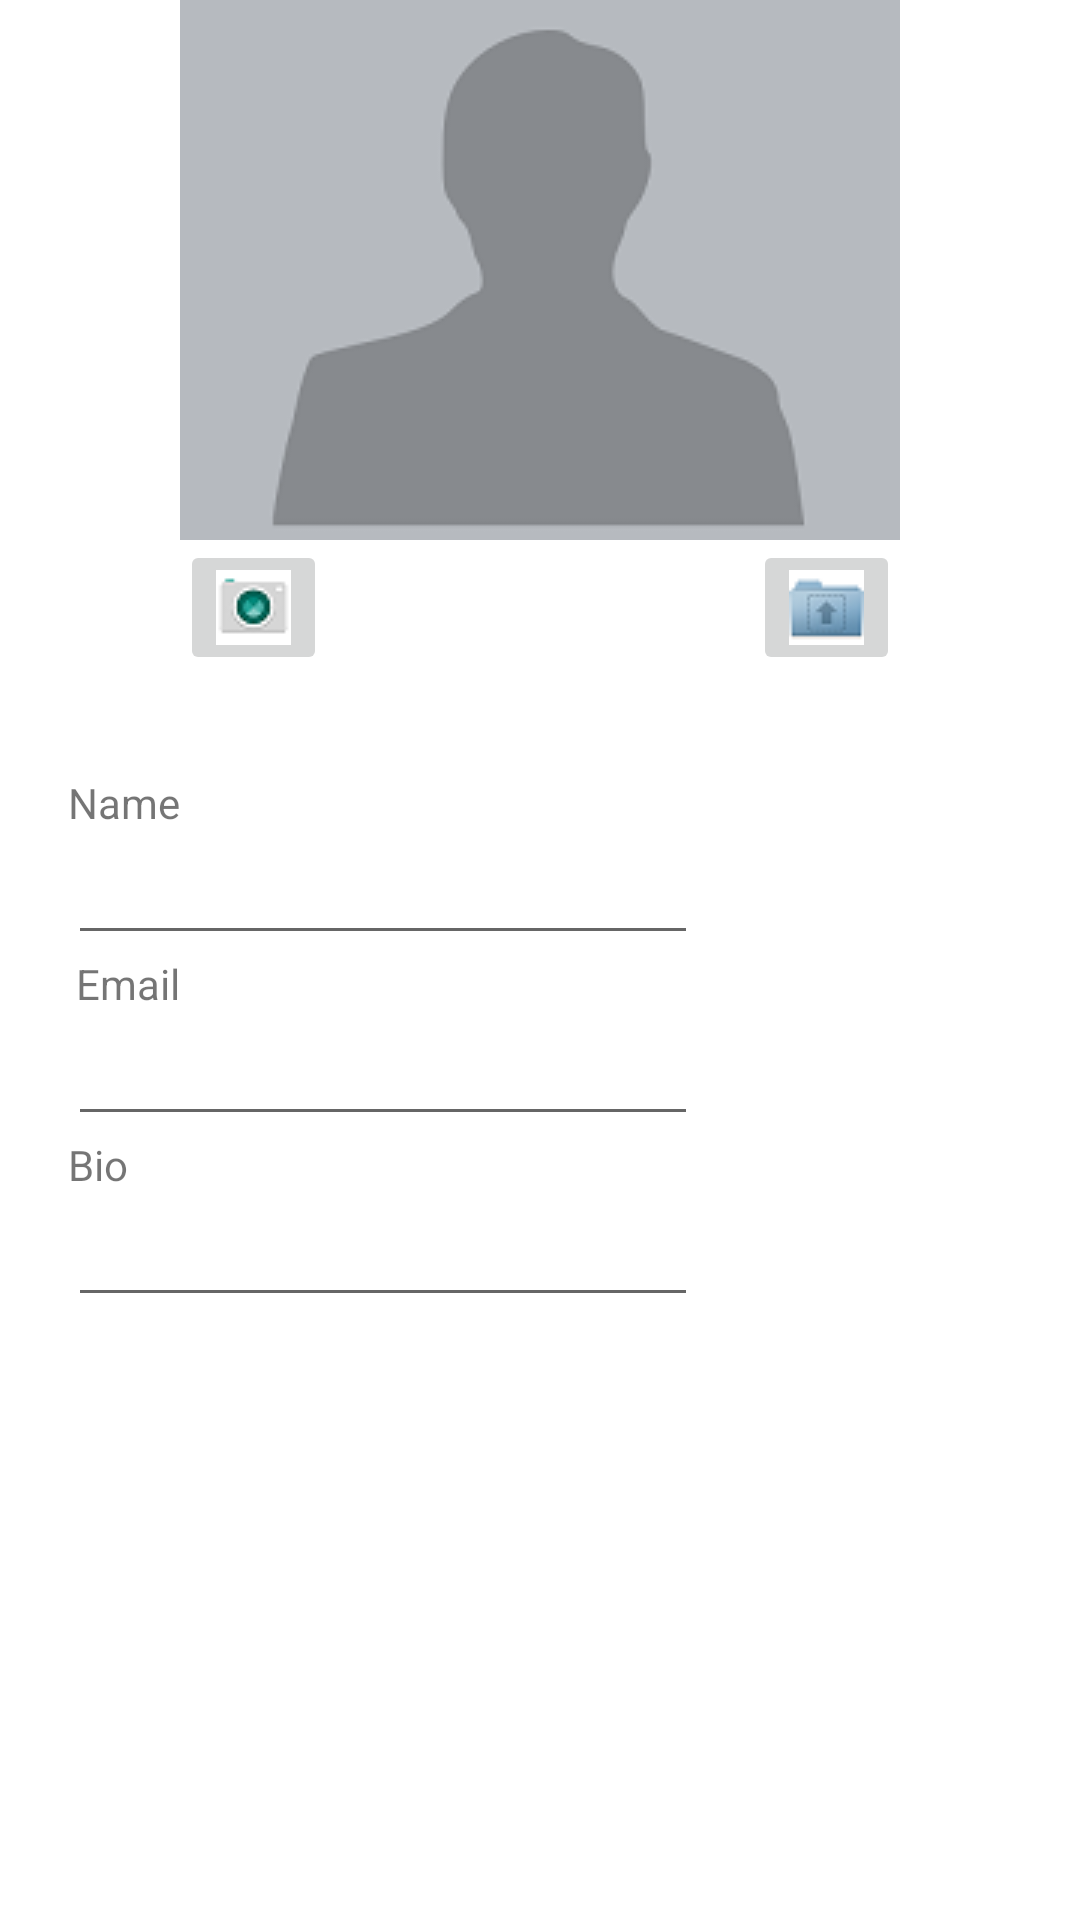

Icon click points for this 1080px x 1920px phone screenshot, format point (x, y):
camera: point (253, 607)
upload: point (826, 607)
